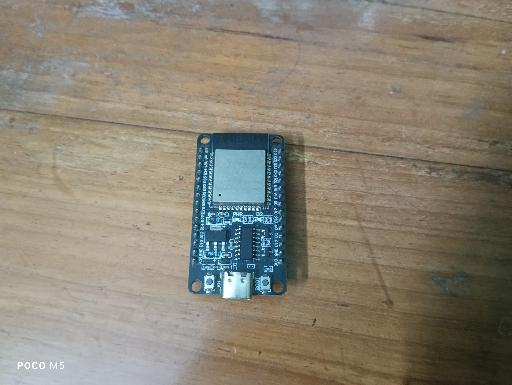Esp32: (189, 132, 288, 300)
